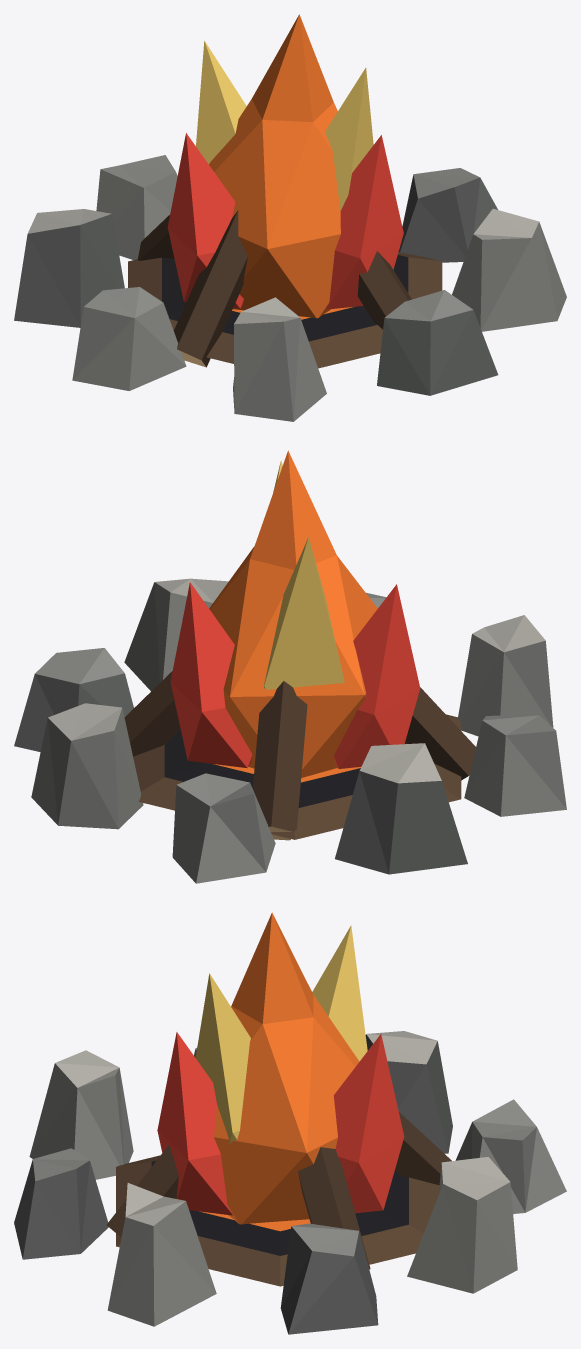
Rendered from campfire.fbx.
3 renders of one model, top to bottom at view 1: azimuth 30°, elevation 25°; view 2: azimuth 150°, elevation 25°; view 3: azimuth 270°, elevation 25°, orthographic. The views are drawn at different scales.
Parts seen in each view (by area): view 1: campfire; view 2: campfire; view 3: campfire.
Part boxes in pixels (x1=…): campfire: x1=14, y1=14, x2=566, y2=421; campfire: x1=14, y1=450, x2=566, y2=883; campfire: x1=14, y1=912, x2=566, y2=1334.
Bounding box in the file's own units: 1.38 × 0.8393 × 1.34.
